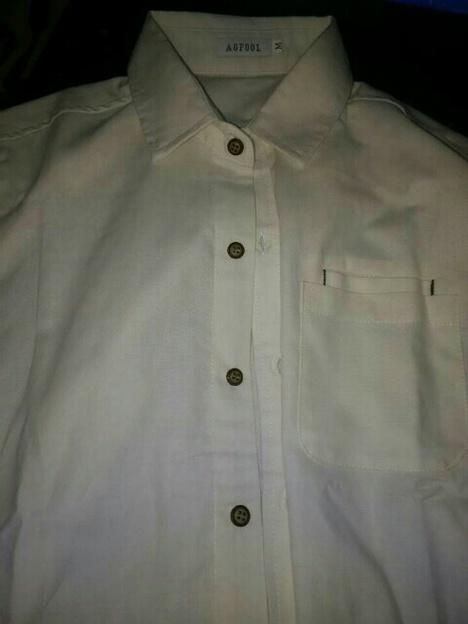C_shirt: (6, 12, 468, 623)
